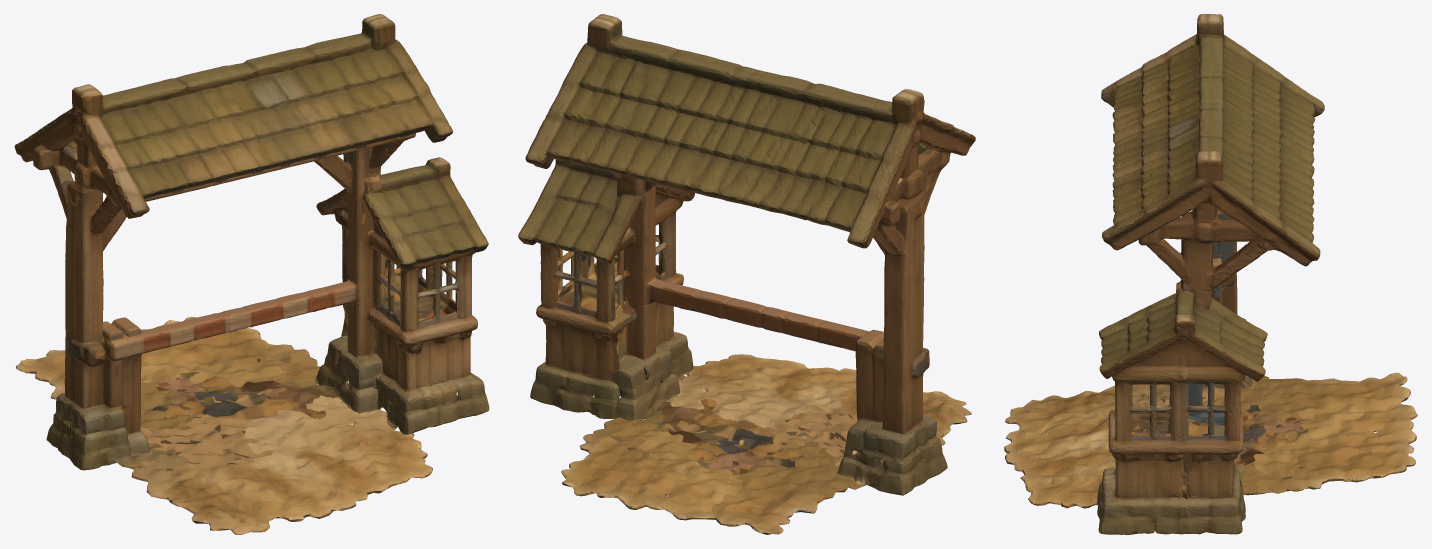
The model's file is wc-tollgate-paint.glb.
3 views of the same model, side by side, from view 1: azimuth 30°, elevation 25°; view 2: azimuth 150°, elevation 25°; view 3: azimuth 270°, elevation 25° (orthographic). The views are drawn at different scales.
Visible parts, largest first — view 1: geometry_0; view 2: geometry_0; view 3: geometry_0.
Boxes of the visible parts, left/top/right/bottom form: geometry_0: left=14, top=14, right=489, bottom=534; geometry_0: left=518, top=14, right=975, bottom=534; geometry_0: left=1004, top=14, right=1417, bottom=534.
Size of the model in its own units: 1.99 by 1.98 by 1.99.
Materials: 1 (1 with a texture image).
